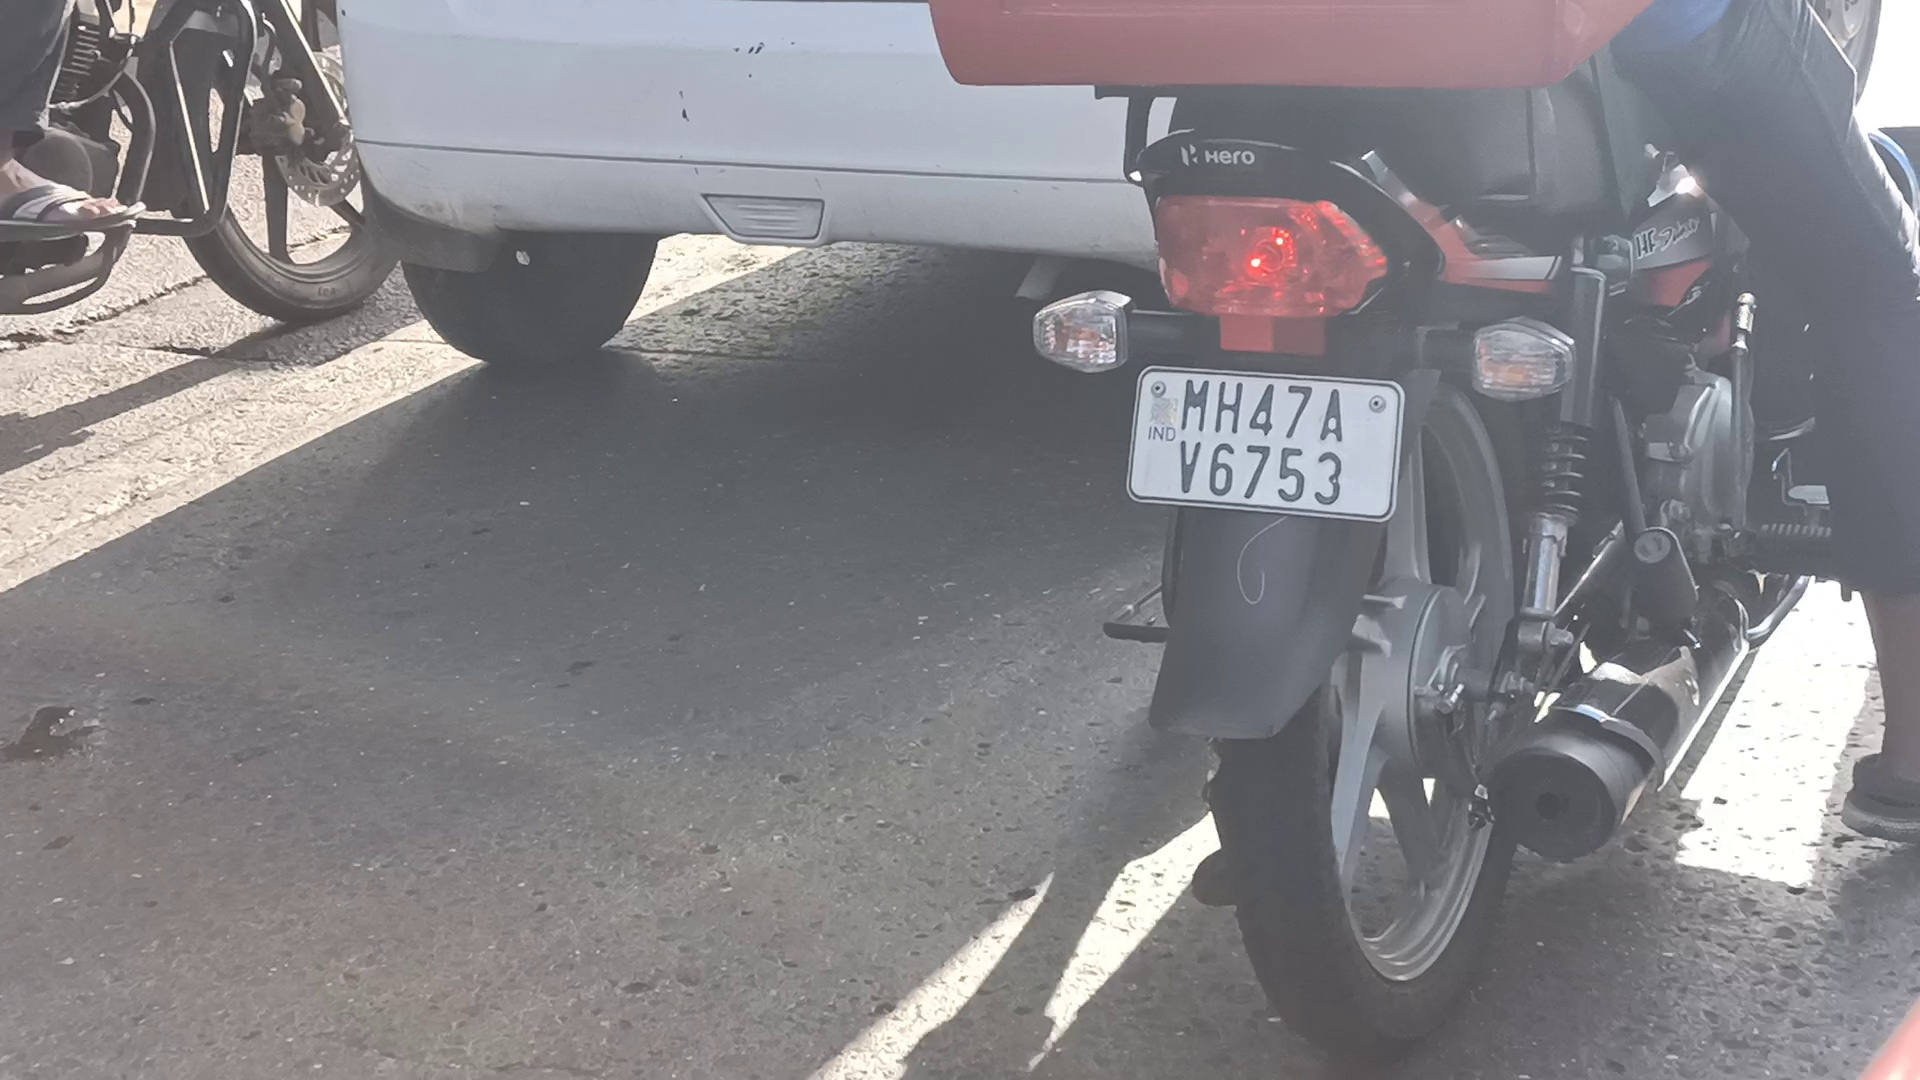MH47AV6753: (1127, 369, 1398, 514)
